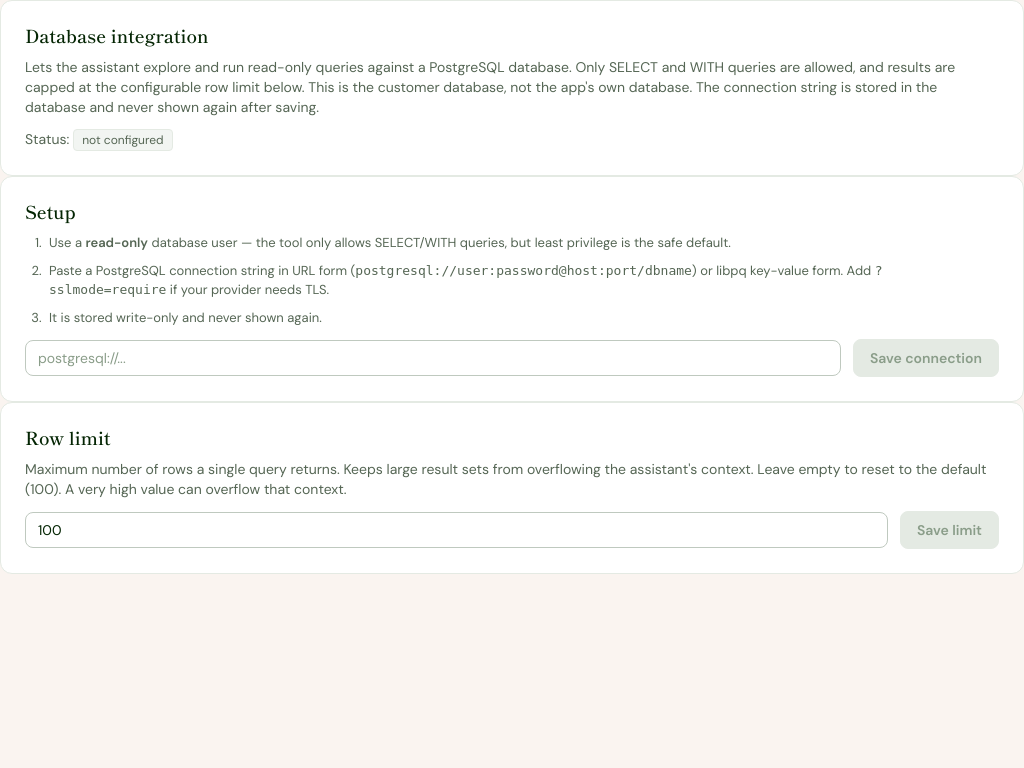
Test case: AdminDatabase › surfaces a validation error from the server
The image size is (1024, 768).
expect the text "not configured" is shown: met, box [73,129,172,151]
Type "bad" into the password field with placeholder "postgresql://..." at (433, 358), box [25,340,841,376]
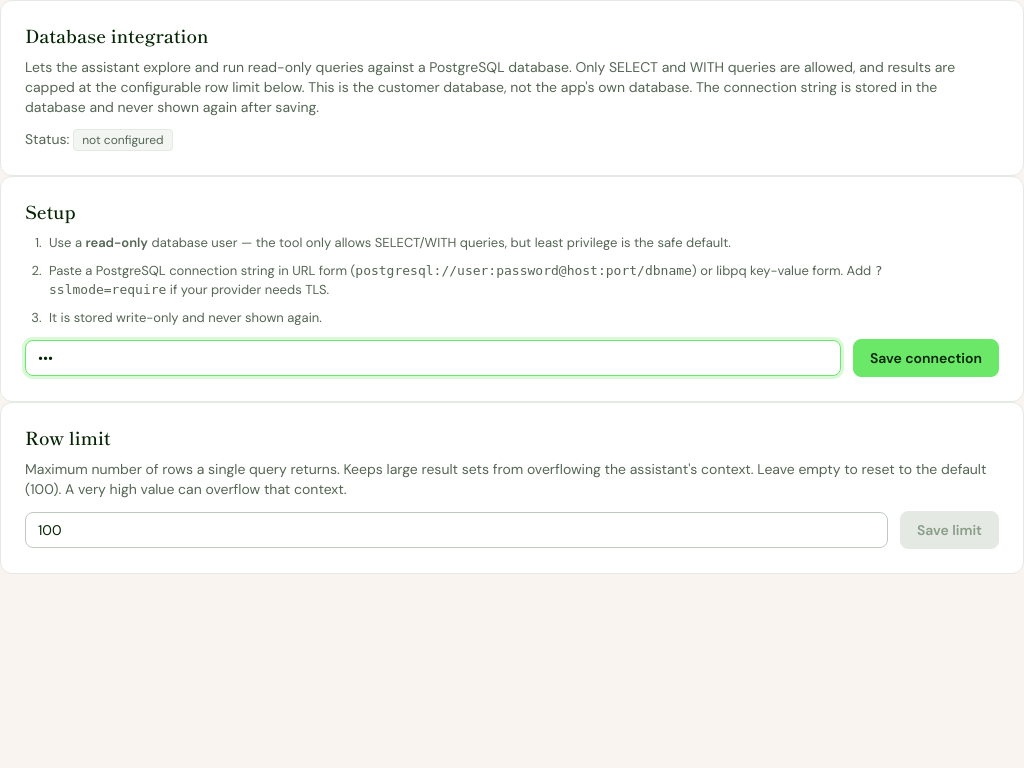
Click the button "Save connection" at (926, 358), box [853,339,999,377]
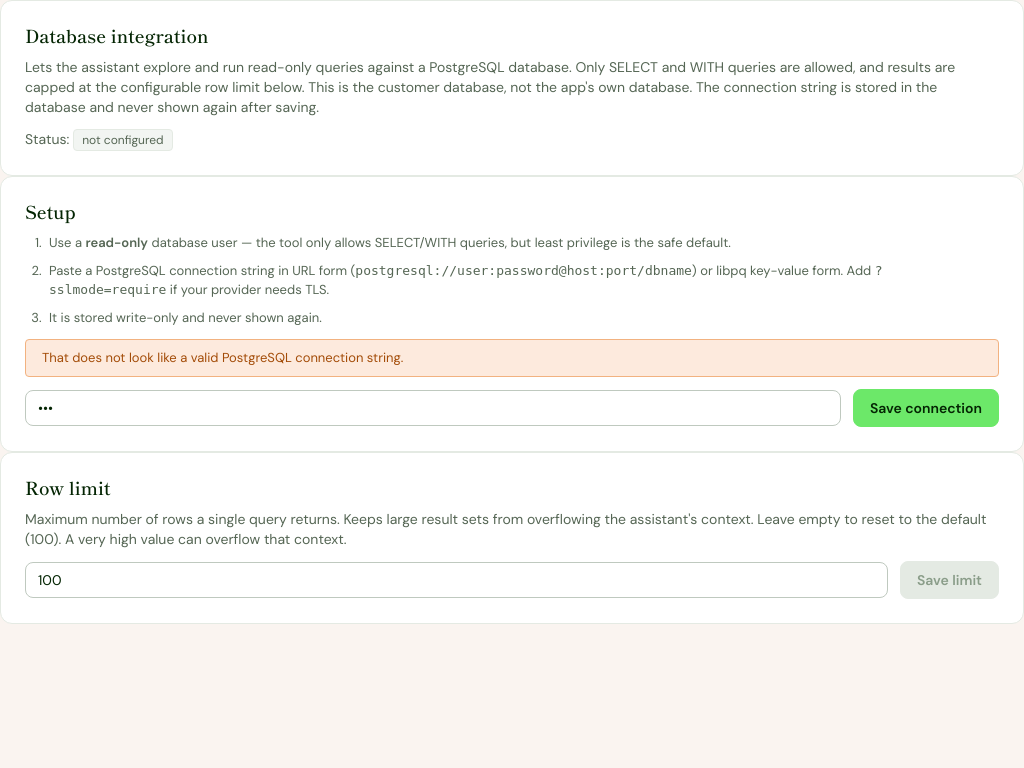
expect the text "That does not look like a valid PostgreSQL connection string." is shown: met, box [25,339,999,377]
